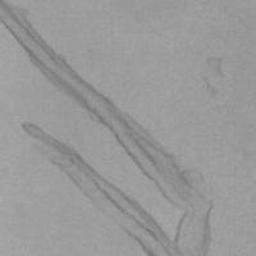Water spot: (0, 0, 216, 256), (201, 73, 220, 102), (206, 54, 227, 78)
